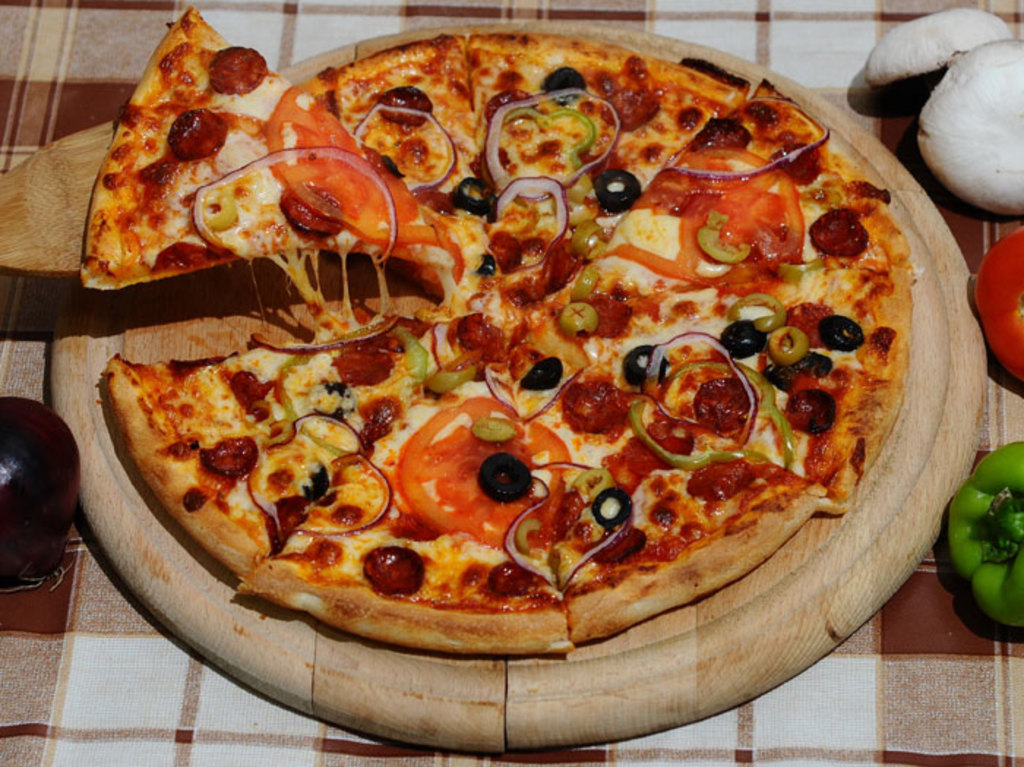Pizza: (92, 29, 959, 686)
